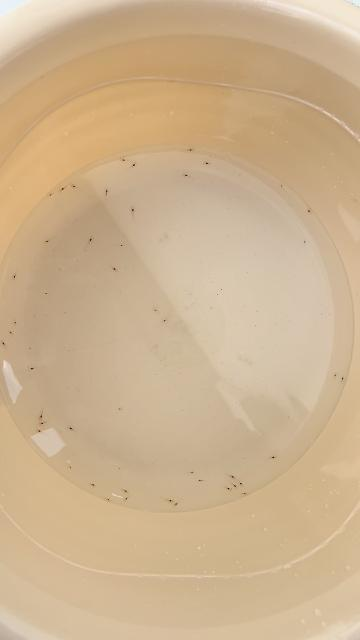benur: (173, 502, 178, 508), (0, 340, 5, 345), (59, 188, 64, 193), (131, 206, 135, 212), (28, 367, 34, 371), (240, 483, 245, 487), (227, 487, 232, 491), (203, 161, 208, 165), (189, 147, 194, 151), (90, 236, 94, 241), (123, 497, 128, 501), (169, 499, 174, 503), (47, 194, 52, 198), (182, 173, 188, 176), (70, 184, 76, 187), (234, 485, 238, 489), (306, 208, 310, 212), (133, 162, 137, 166), (114, 268, 118, 272), (8, 330, 12, 334), (39, 422, 43, 426), (39, 416, 43, 420), (272, 455, 277, 458), (231, 476, 236, 479), (120, 158, 125, 161), (67, 426, 72, 429), (92, 484, 97, 487), (124, 490, 129, 493), (12, 275, 15, 280), (244, 492, 248, 495), (191, 471, 195, 474), (106, 188, 109, 192), (163, 319, 166, 323), (14, 321, 17, 325), (36, 429, 40, 432), (334, 373, 338, 376), (44, 241, 48, 244), (154, 309, 157, 312), (70, 466, 73, 469), (108, 499, 111, 502), (341, 376, 344, 379), (198, 480, 201, 482), (45, 292, 48, 294), (118, 408, 121, 410), (118, 467, 121, 469), (304, 241, 306, 243), (280, 185, 282, 187), (120, 245, 123, 246)
